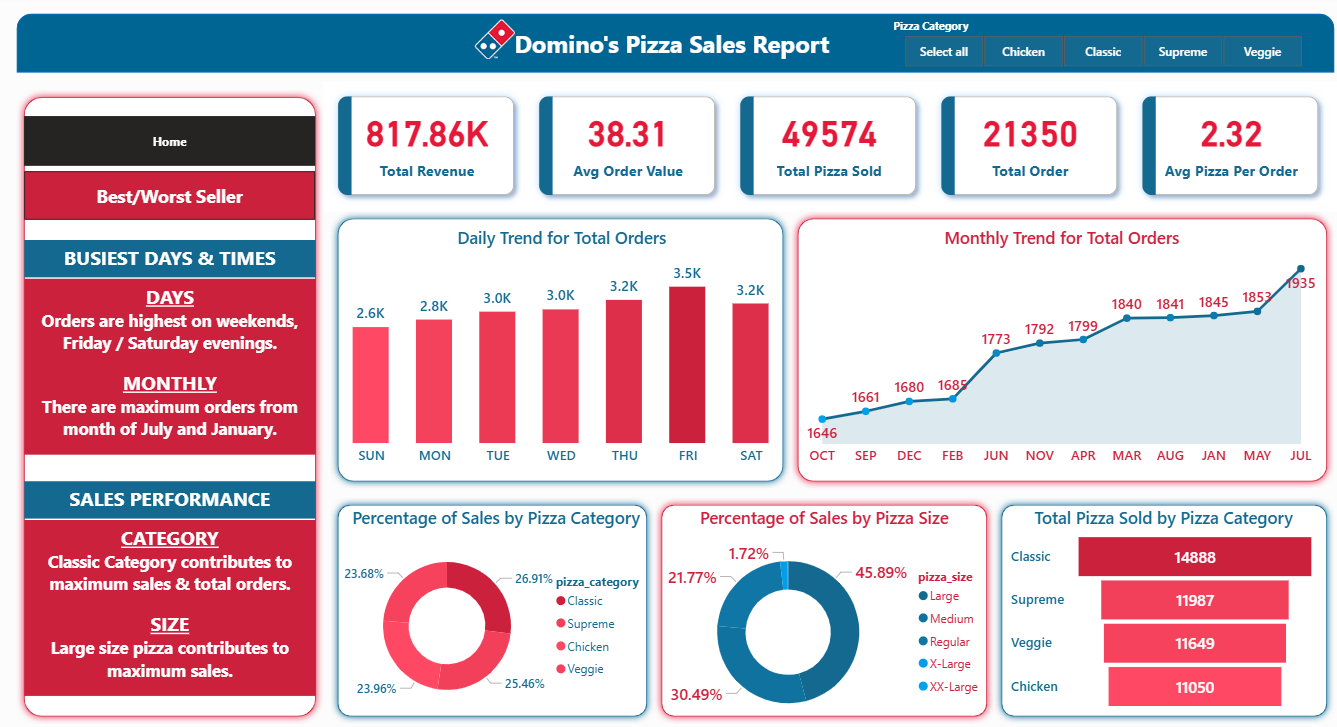

The page's visual inventory and layout, read from the dashboard file:
{"tool":"powerbi","page":{"name":"Home","canvas":[1500,820],"ordinal":0},"visuals":[{"type":"cardVisual","fields":{"Data":["pizza_sales.Total Revenue","pizza_sales.Avg Order Value","pizza_sales.Total Pizza Sold","pizza_sales.Total Order","pizza_sales.Avg Pizza Per Order"]},"box":[362.1,90.5,1129.5,144.8],"z":0},{"type":"shape","box":[20.9,15.3,1467.9,65.5],"z":1000},{"type":"textbox","box":[540.4,25.1,420.6,47.4],"z":2000},{"type":"image","box":[526.4,15.3,55.7,57.1],"z":3000},{"type":"shape","box":[370.5,235.4,512.5,309.2],"z":4000},{"type":"columnChart","title":"Daily Trend for Total Orders","fields":{"Category":["pizza_sales.Order Day"],"Y":["pizza_sales.Total Order"]},"box":[362.1,252.1,532,275.7],"z":5000},{"type":"shape","box":[883,235.4,605.8,309.2],"z":6000},{"type":"areaChart","title":"Monthly Trend for Total Orders","fields":{"Category":["pizza_sales.Order Month"],"Y":["pizza_sales.Total Order"]},"box":[894.1,252.1,582.1,275.7],"z":7000},{"type":"shape","box":[731.2,554.3,378.8,252.1],"z":8000},{"type":"shape","box":[1110,554.3,378.8,252.1],"z":9000},{"type":"shape","box":[370.5,554.3,360.7,252.1],"z":10000},{"type":"shape","box":[20.9,100.3,341.2,706.1],"z":11000},{"type":"donutChart","title":"Percentage of Sales by Pizza Category","fields":{"Category":["pizza_sales.pizza_category"],"Y":["pizza_sales.Total Revenue"]},"box":[374.6,564,360.7,242.3],"z":12000},{"type":"donutChart","title":"Percentage of Sales by Pizza Size","fields":{"Y":["pizza_sales.Total Revenue"],"Category":["pizza_sales.pizza_size"]},"box":[731.2,564,378.8,256.3],"z":13000},{"type":"funnel","title":"Total Pizza Sold by Pizza Category","fields":{"Category":["pizza_sales.pizza_category"],"Y":["pizza_sales.Total Pizza Sold"]},"box":[1123.9,564,349.6,232.6],"z":14000},{"type":"textbox","box":[29.2,267.4,324.5,41.8],"z":15000},{"type":"textbox","box":[29.2,310.6,324.5,196.4],"z":16000},{"type":"textbox","box":[29.2,579.4,324.5,196.4],"z":17000},{"type":"textbox","box":[29.2,536.2,324.5,41.8],"z":18000},{"type":"slicer","fields":{"Values":["pizza_sales.pizza_category"]},"box":[984.6,15.3,491.6,65.5],"z":19000},{"type":"pageNavigator","box":[29.2,129.5,324.5,55],"z":20000},{"type":"pageNavigator","box":[29.2,190.8,324.5,54.3],"z":21000}]}

Visuals, with their boxes in screenshot pixels (x1, y1, x2, y2), scaled from the page's 1500x820 canvas onto the 1337x727 screenshot:
cardVisual - pizza_sales.Total Revenue x pizza_sales.Avg Order Value: <box>323,80,1330,209</box>
shape: <box>19,14,1327,72</box>
textbox: <box>482,22,857,64</box>
image: <box>469,14,519,64</box>
shape: <box>330,209,787,483</box>
"Daily Trend for Total Orders" columnChart: <box>323,224,797,468</box>
shape: <box>787,209,1327,483</box>
"Monthly Trend for Total Orders" areaChart: <box>797,224,1316,468</box>
shape: <box>652,491,989,715</box>
shape: <box>989,491,1327,715</box>
shape: <box>330,491,652,715</box>
shape: <box>19,89,323,715</box>
"Percentage of Sales by Pizza Category" donutChart: <box>334,500,655,715</box>
"Percentage of Sales by Pizza Size" donutChart: <box>652,500,989,726</box>
"Total Pizza Sold by Pizza Category" funnel: <box>1002,500,1313,706</box>
textbox: <box>26,237,315,274</box>
textbox: <box>26,275,315,449</box>
textbox: <box>26,514,315,688</box>
textbox: <box>26,475,315,512</box>
slicer - pizza_sales.pizza_category: <box>878,14,1316,72</box>
pageNavigator: <box>26,115,315,164</box>
pageNavigator: <box>26,169,315,217</box>
